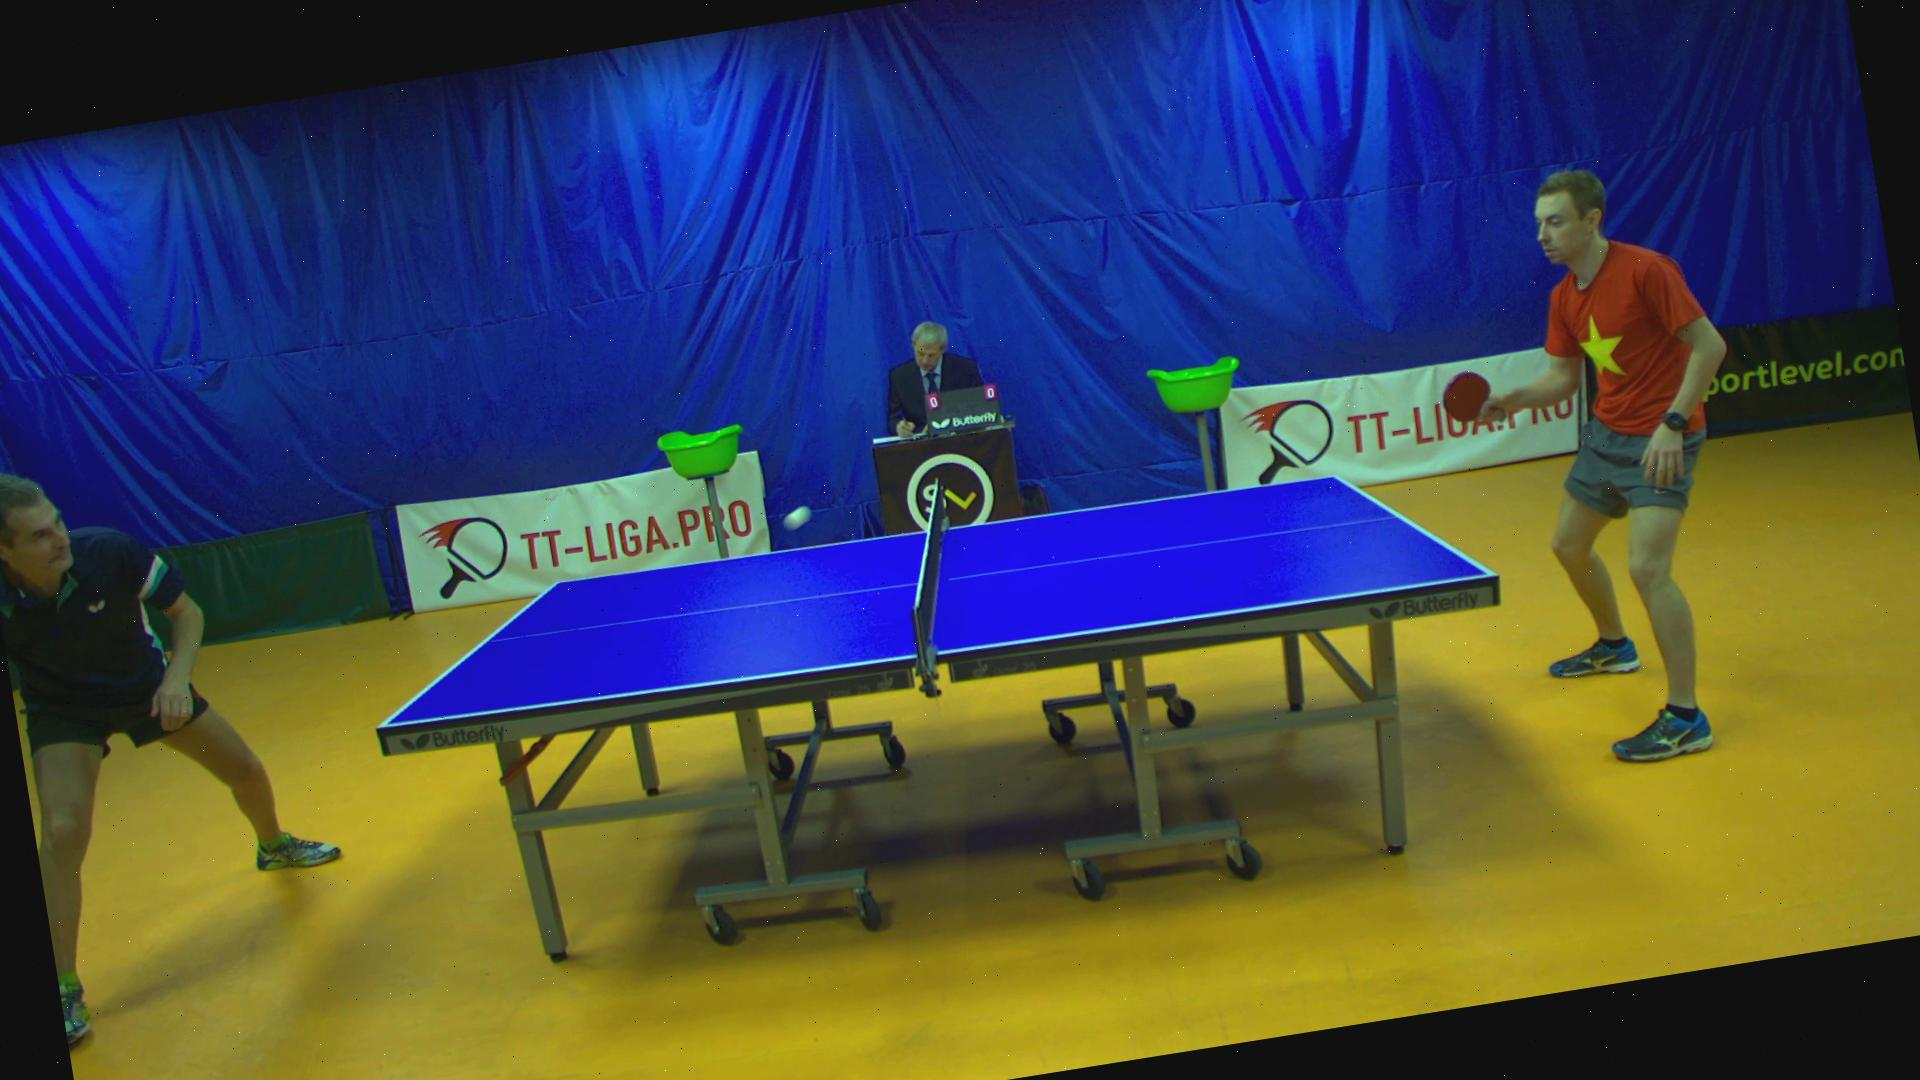ball: (777, 493, 818, 534)
